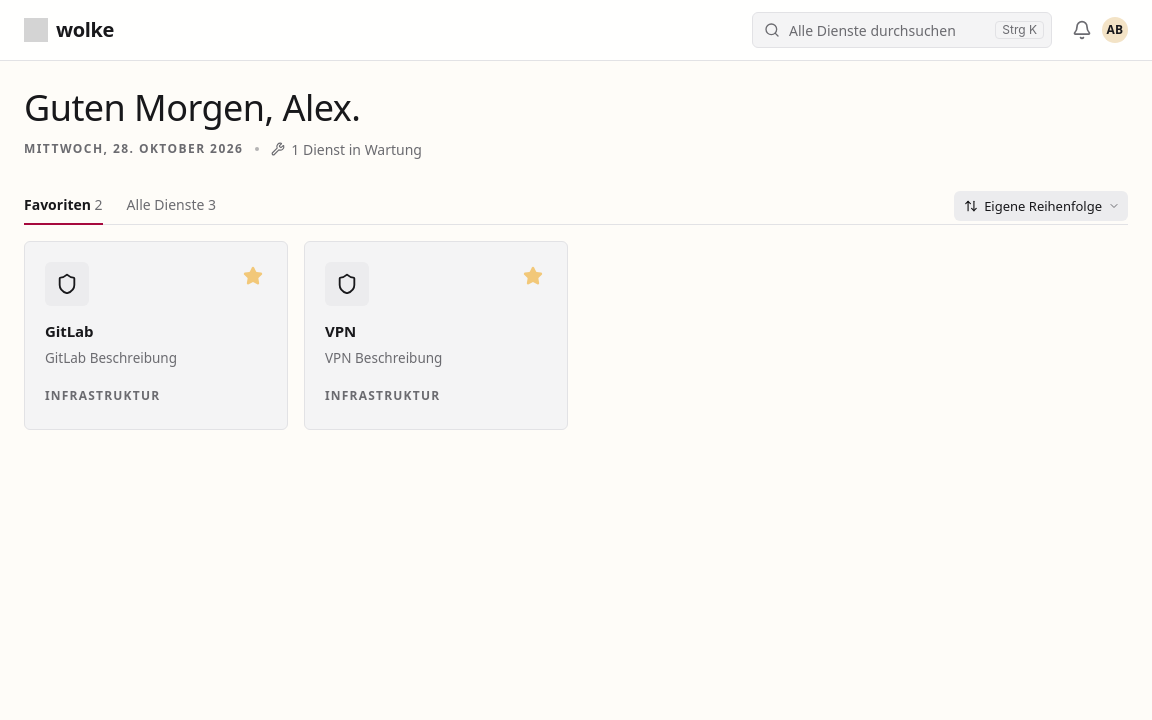
Test: a search and the Anordnen edit mode cannot coexist (issue #198) › typing a query cancels arrange, and clearing the query does not bring it back
Check: the navigation bar named "Hauptnavigation" is shown, box [24, 188, 1128, 225]
Step 1. Click the button with aria-label "Reihenfolge:" → (1041, 206), box [954, 191, 1128, 221]
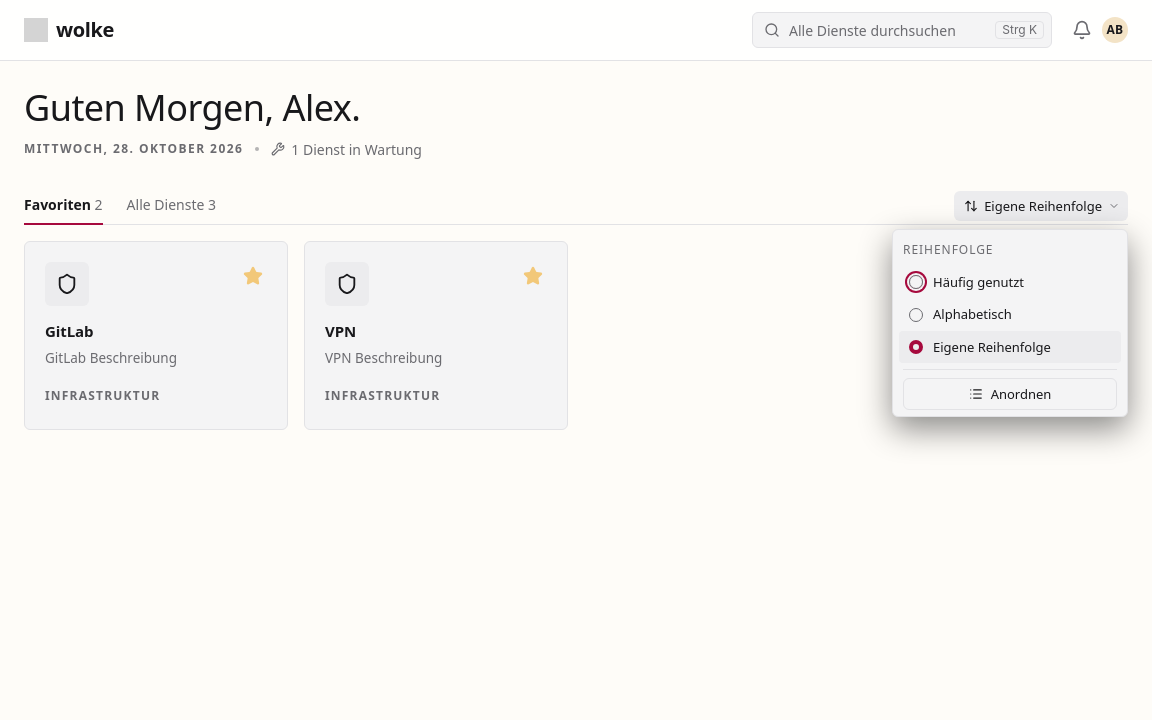
Step 2. Click the button "Anordnen" → (1010, 394), box [903, 378, 1117, 410]
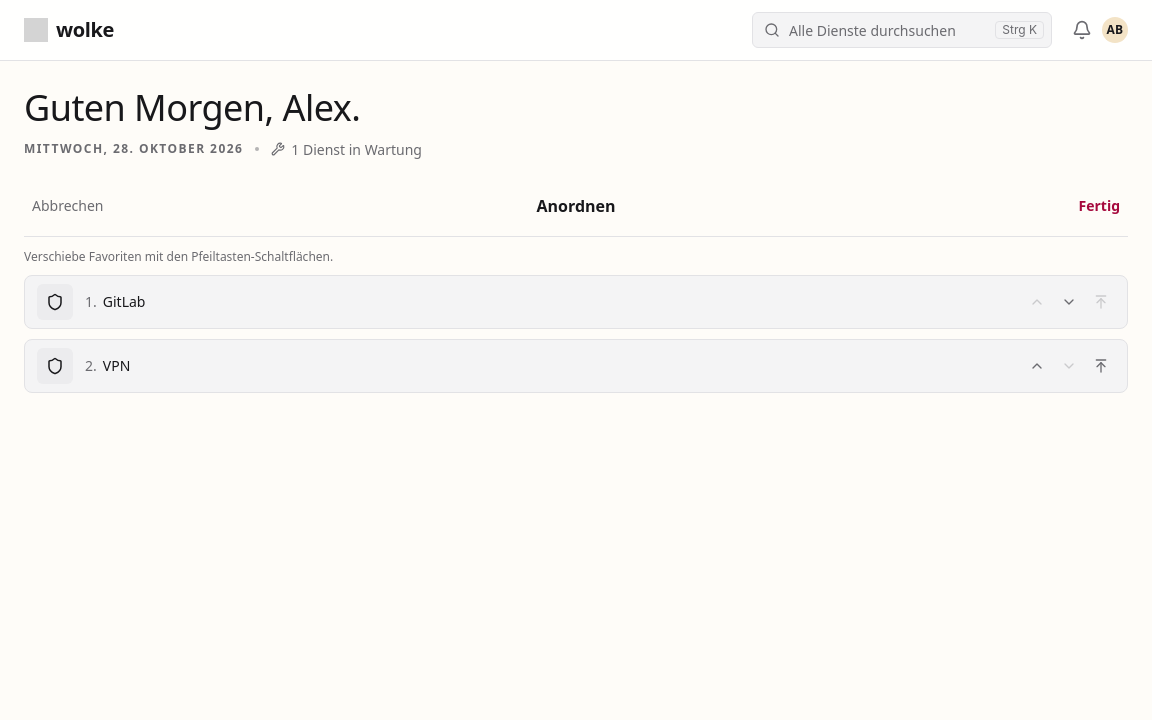
Check: the button "Fertig" is shown, box [1070, 188, 1128, 224]
Step 3. Type "git" into the search field labelled "Alle Dienste durchsuchen" → (902, 30), box [752, 12, 1052, 48]
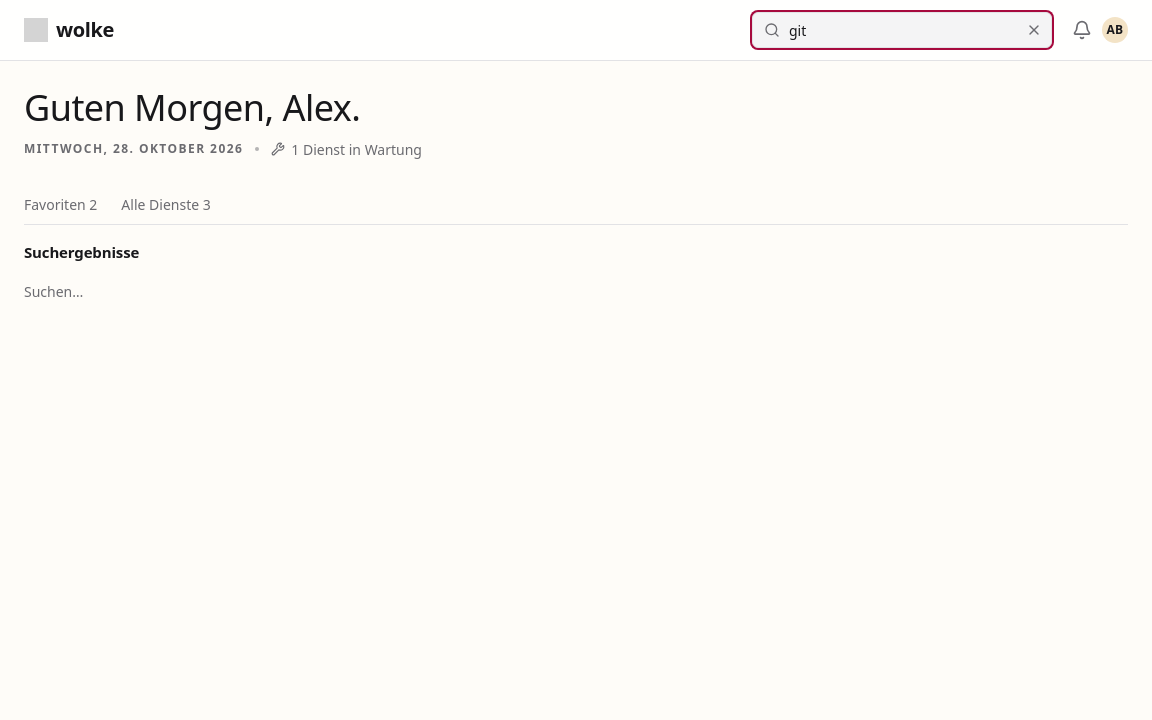
Check: the heading "Suchergebnisse" is shown, box [24, 242, 139, 262]
Check: the button "Fertig" is gone
Step 4. Clear the search field named "Alle Dienste durchsuchen" → (902, 30), box [752, 12, 1052, 48]
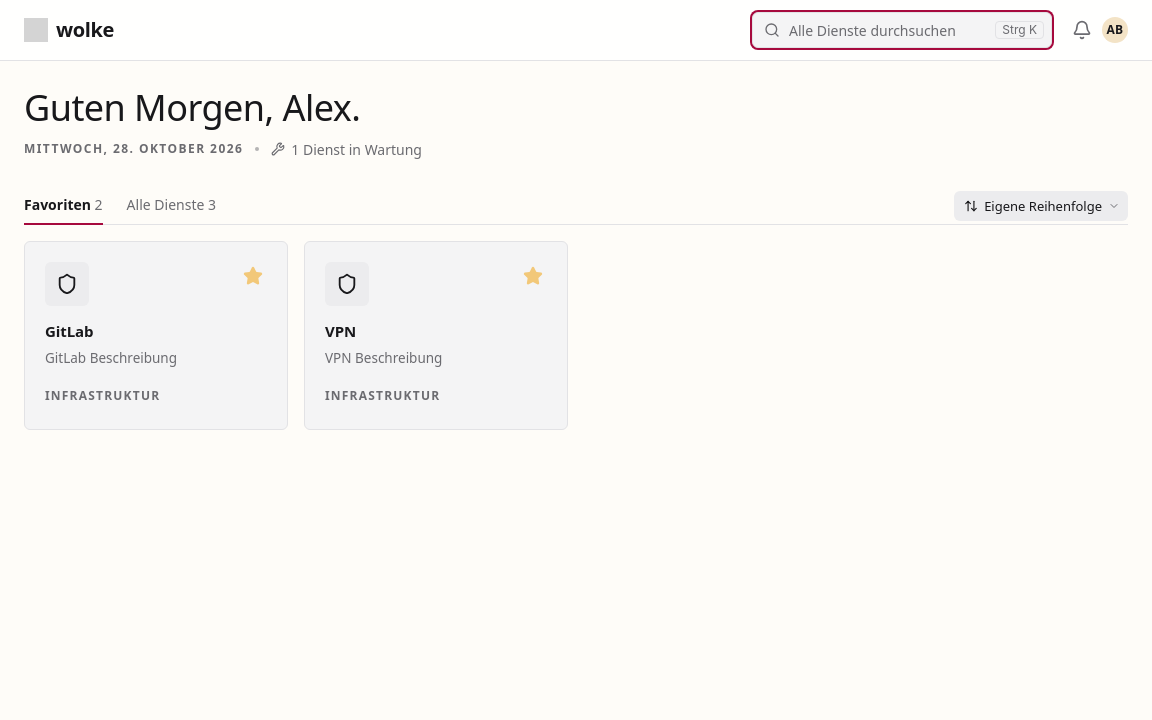
Check: the button "Fertig" is not shown
Check: the navigation bar named "Hauptnavigation" is shown, box [24, 188, 1128, 225]
Check: the heading "Suchergebnisse" is gone
